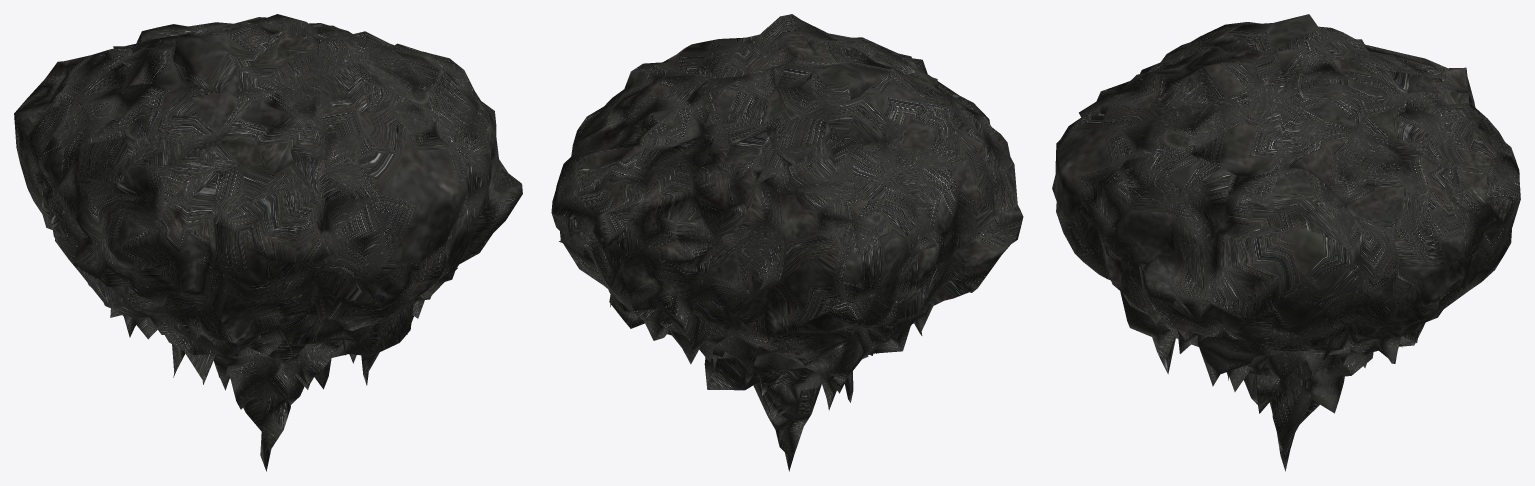
File: floating-rock.glb
3 views of the same model, side by side, from view 1: azimuth 30°, elevation 25°; view 2: azimuth 150°, elevation 25°; view 3: azimuth 270°, elevation 25° (orthographic). The views are drawn at different scales.
Size of the model in its own units: 1.89 by 1.9 by 1.89.
Materials: 1 (1 with a texture image).
